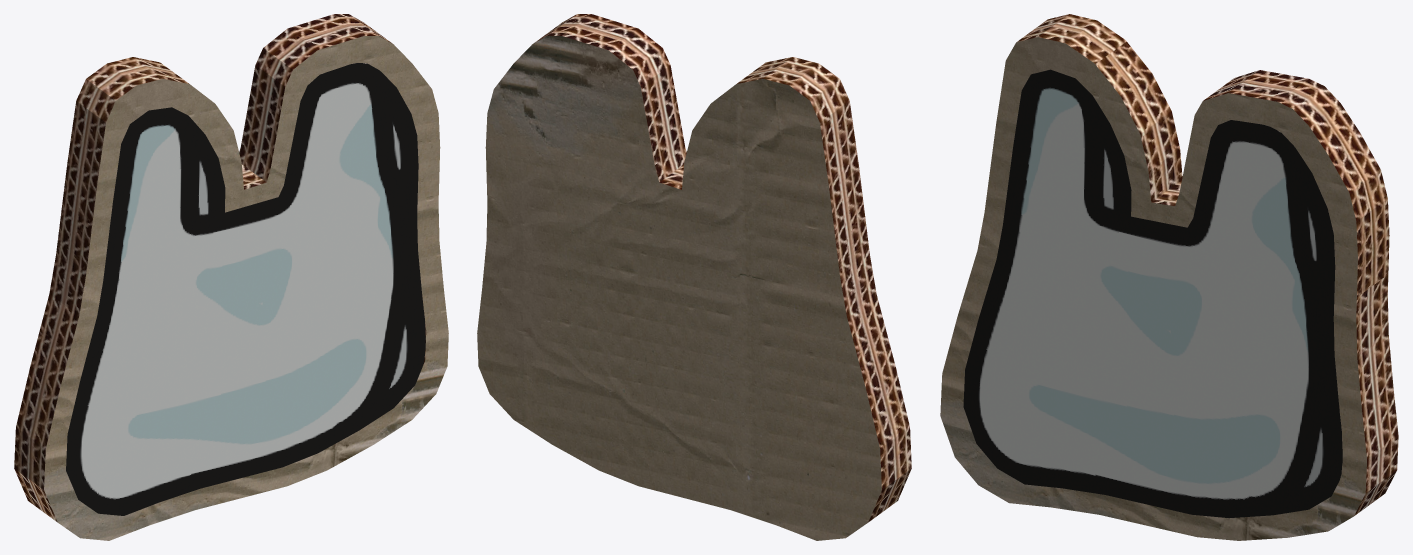
The model's file is bag.fbx.
The picture shows the model from 3 angles, left to right: view 1: azimuth 30°, elevation 25°; view 2: azimuth 150°, elevation 25°; view 3: azimuth 330°, elevation 25°; orthographic projection. The views are drawn at different scales.
Visible parts, largest first — view 1: bag; view 2: bag; view 3: bag.
Part boxes in pixels (x1,y1,x2,y2): bag: (14, 14, 448, 540); bag: (477, 14, 911, 540); bag: (940, 14, 1398, 540).
Size of the model in its own units: 62.57 by 66.33 by 8.
